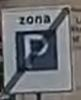fim de zona de estacionamento autorizado: (0, 4, 76, 96)
